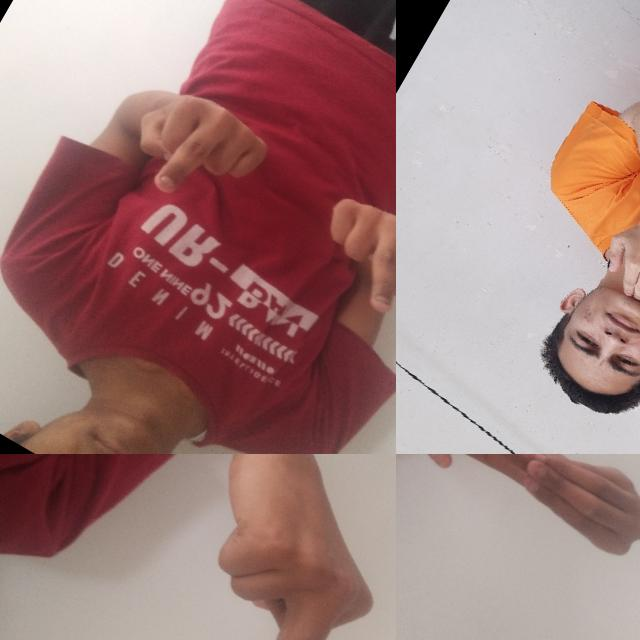Chin Flick: (504, 187, 640, 453)
Five Fathers: (396, 454, 640, 586)
Middle Finger: (86, 454, 396, 640), (104, 66, 282, 230), (294, 173, 396, 333)
